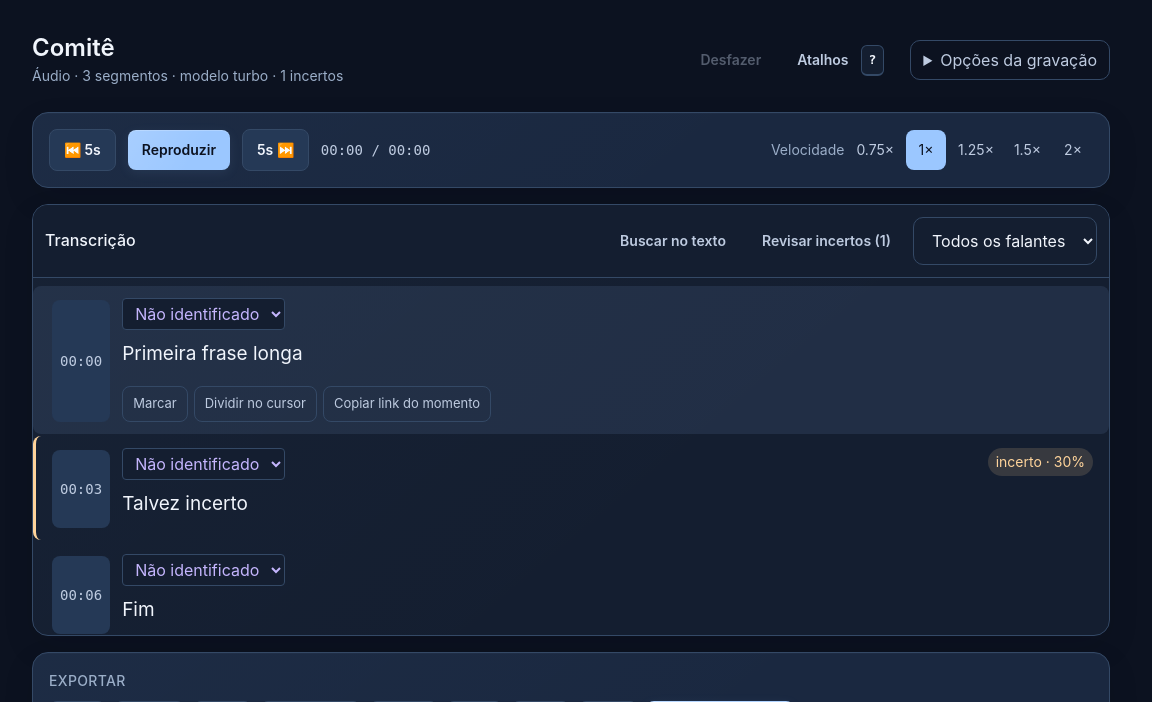
Scenario: saves pending edits before splitting at the cursor and replaces the segment list
Replace the text in the text box named "Texto em 00:00" with "Primeira frase longa editada": [602, 354] box 122,338 -> 1081,370
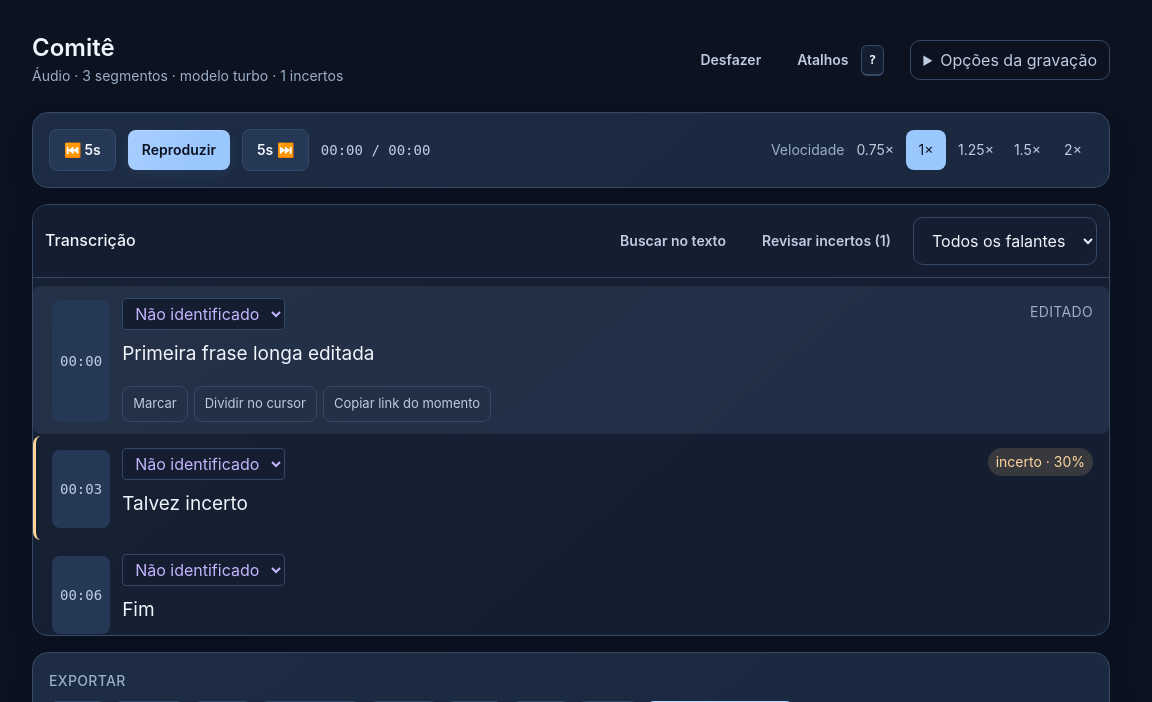
Click the button "Dividir no cursor": [255, 404] box 194,386 -> 317,422
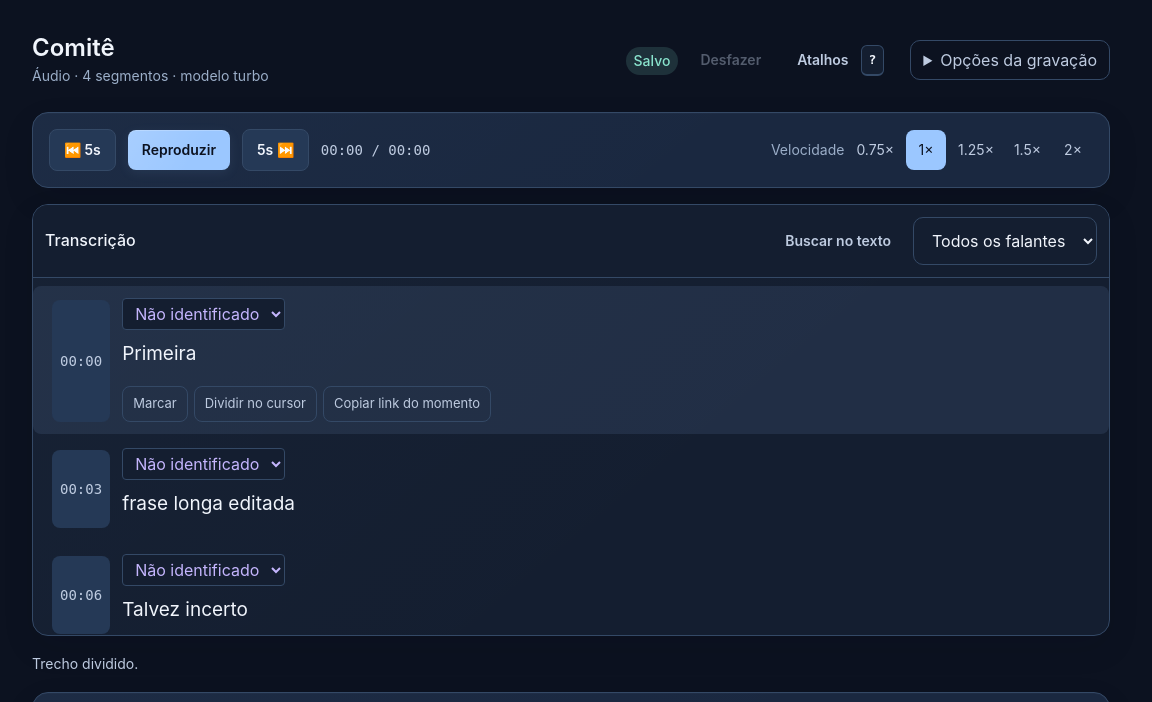
Expected: the text "Trecho dividido." is shown, 32,655 -> 138,672
Expected: the text box named "Texto em 00:03" holds "frase longa editada", 122,488 -> 1081,520
Expected: the button "Desfazer" is disabled, 686,40 -> 775,80
